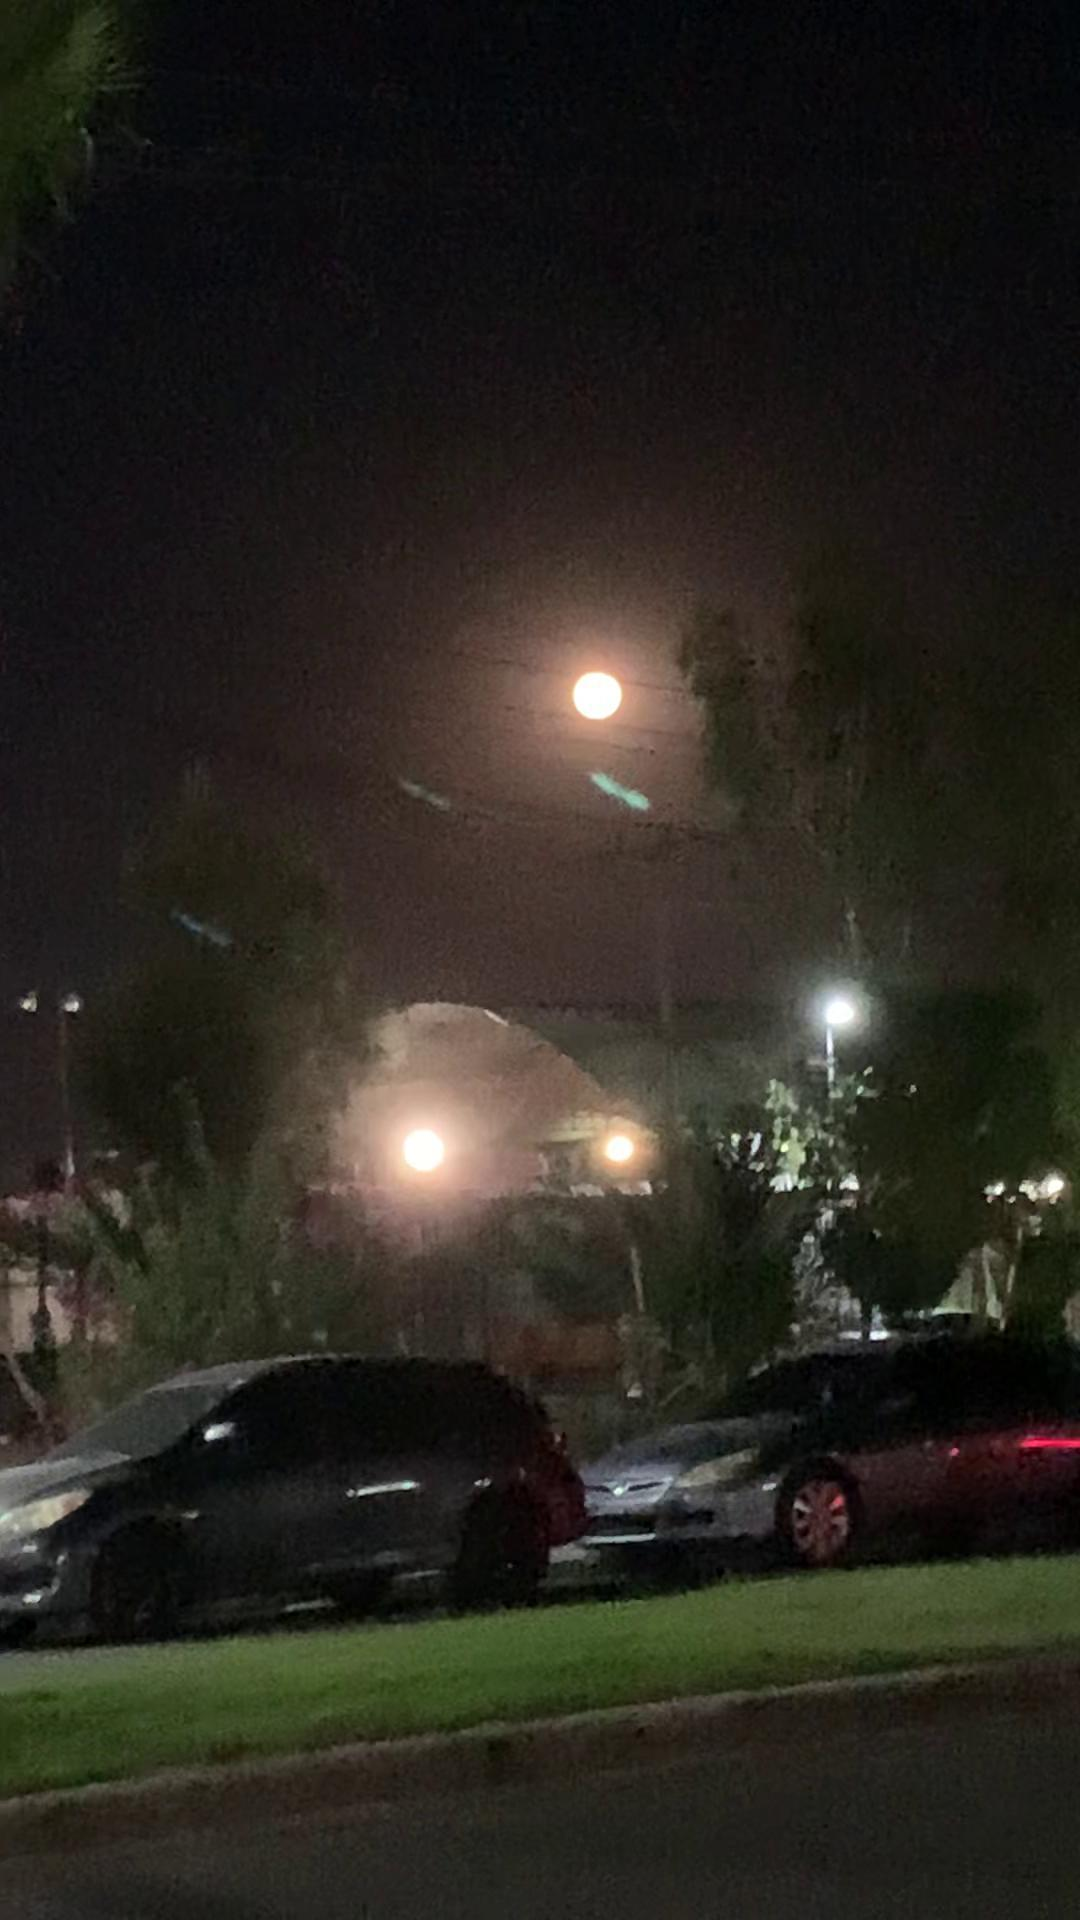moon: (567, 665, 657, 741)
